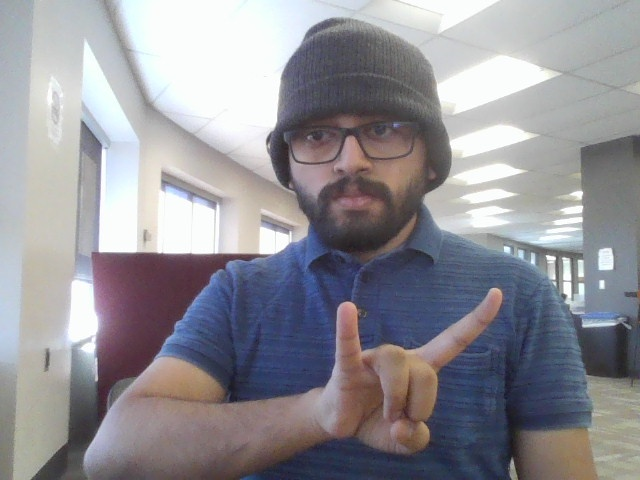help: (307, 273, 510, 465)
